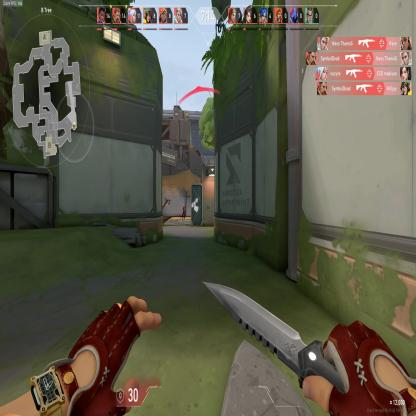enemy: (182, 203, 186, 220)
